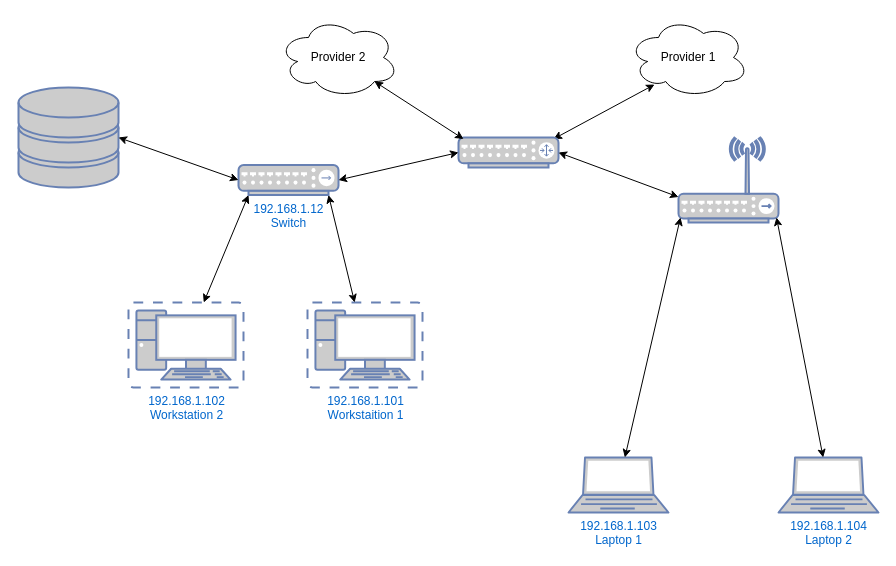
Some shapes in this 896 by 566 pixel diagram are drawn without their labels. Each missing label, with the box of its shape:
192.168.1.10/24 Pfsense (DHCP DNS): (457, 136, 559, 168)
192.168.1.100 Qnap: (17, 86, 119, 188)
192.168.1.11 Wirlees Hub: (677, 136, 779, 223)
